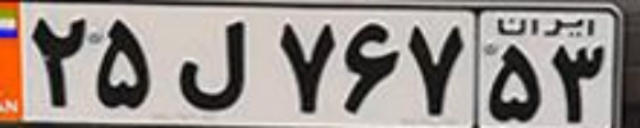2: (31, 16, 87, 108)
3: (549, 43, 606, 123)
5: (94, 17, 152, 108), (484, 43, 541, 123)
6: (341, 22, 402, 114)
7: (406, 23, 467, 115), (279, 22, 334, 113)
lam: (176, 20, 250, 111)
